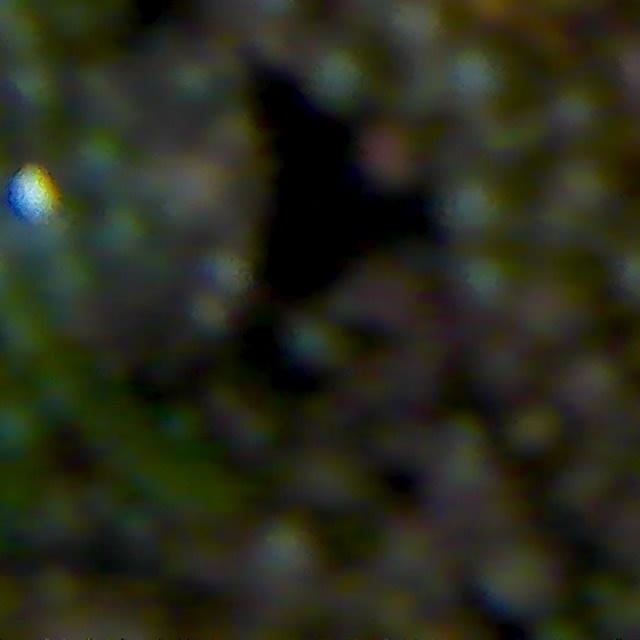SeaGrape: (478, 536, 562, 620), (243, 518, 322, 601), (543, 157, 615, 231), (374, 517, 445, 589), (440, 43, 510, 110), (558, 352, 625, 422), (441, 173, 510, 239), (357, 124, 422, 192), (304, 44, 367, 109), (468, 333, 531, 398), (383, 0, 451, 60), (545, 82, 606, 144), (455, 251, 515, 312), (284, 313, 344, 371), (6, 54, 62, 111), (72, 130, 125, 187), (0, 397, 44, 457)
